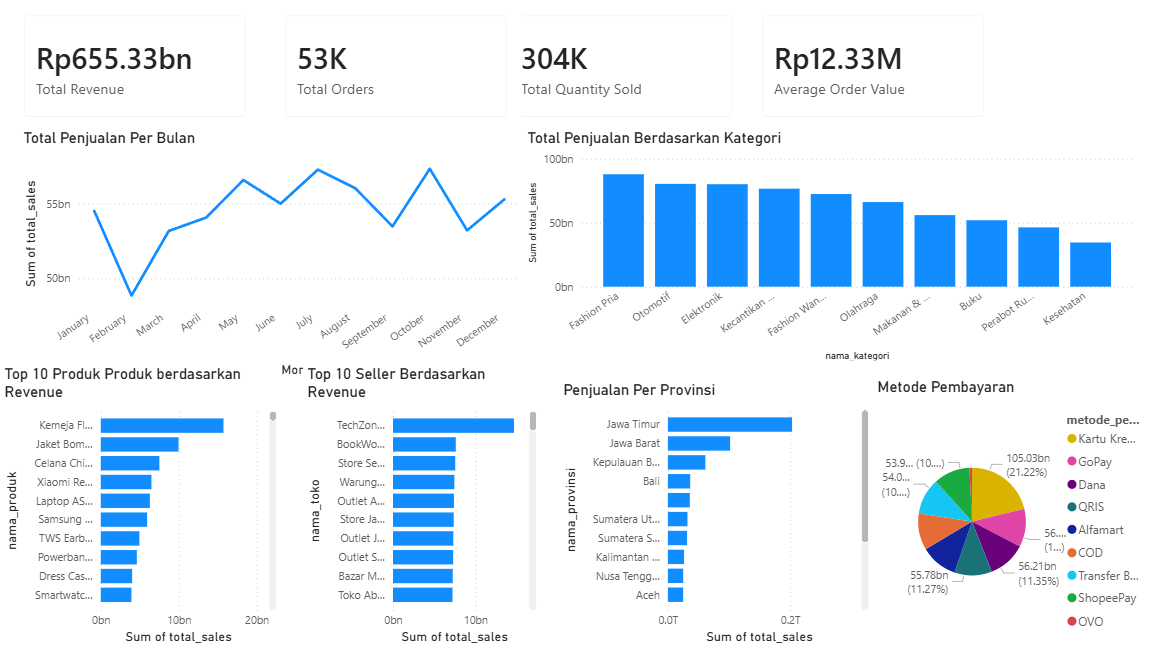

The dashboard page shown, as its layout file describes it:
{"tool":"powerbi","page":{"name":"Page 1","canvas":[1280,720],"ordinal":0},"visuals":[{"type":"cardVisual","fields":{"Data":["mart_sales_monthly_rows.Total Revenue"]},"box":[10,0,280,147.8],"z":0},{"type":"cardVisual","fields":{"Data":["mart_sales_monthly_rows.Total Quantity Sold"]},"box":[548.9,0,281.1,147.8],"z":1000},{"type":"cardVisual","fields":{"Data":["mart_sales_monthly_rows.Total Orders"]},"box":[300,0,280,147.8],"z":2000},{"type":"cardVisual","fields":{"Data":["mart_sales_monthly_rows.Average Order Value"]},"box":[830,0,280,147.8],"z":3000},{"type":"lineChart","title":"Total Penjualan Per Bulan","fields":{"Category":["mart_sales_monthly_rows.first_transaction_date.Variation.Date Hierarchy.Month","mart_sales_monthly_rows.first_transaction_date.Variation.Date Hierarchy.Day"],"Y":["Sum(mart_sales_monthly_rows.total_sales)"]},"box":[20.7,143.3,560.9,280.4],"z":4000},{"type":"columnChart","title":"Total Penjualan Berdasarkan Kategori","fields":{"Category":["mart_product_performance_rows.nama_kategori"],"Y":["Sum(mart_product_performance_rows.total_sales)"]},"box":[581.1,143.3,682.2,262.2],"z":5000},{"type":"clusteredBarChart","title":"Top 10 Produk Produk berdasarkan Revenue","fields":{"Category":["mart_product_performance_rows.nama_produk"],"Y":["Sum(mart_product_performance_rows.total_sales)"]},"box":[0,405.6,312.2,314.4],"z":6000},{"type":"clusteredBarChart","title":"Top 10 Seller Berdasarkan Revenue","fields":{"Category":["mart_seller_performance_rows.nama_toko"],"Y":["Sum(mart_seller_performance_rows.total_sales)"]},"box":[336.7,405.6,264.4,314.4],"z":7000},{"type":"pieChart","title":"Metode Pembayaran","fields":{"Category":["mart_payment_performance_rows.metode_pembayaran"],"Y":["Sum(mart_payment_performance_rows.total_sales)"]},"box":[970,420,310,300],"z":8000},{"type":"clusteredBarChart","title":"Penjualan Per Provinsi","fields":{"Category":["mart_region_performance_rows.nama_provinsi"],"Y":["Sum(mart_region_performance_rows.total_sales)"]},"box":[621.1,423.3,348.9,296.7],"z":9000}]}

Visuals, with their boxes in screenshot pixels (x1, y1, x2, y2), scaled from the page's 1280x720 canvas onto the 1149x645 screenshot:
cardVisual - mart_sales_monthly_rows.Total Revenue: 9 0 260 132
cardVisual - mart_sales_monthly_rows.Total Quantity Sold: 493 0 745 132
cardVisual - mart_sales_monthly_rows.Total Orders: 269 0 521 132
cardVisual - mart_sales_monthly_rows.Average Order Value: 745 0 996 132
"Total Penjualan Per Bulan" lineChart: 19 128 522 380
"Total Penjualan Berdasarkan Kategori" columnChart: 522 128 1134 363
"Top 10 Produk Produk berdasarkan Revenue" clusteredBarChart: 0 363 280 644
"Top 10 Seller Berdasarkan Revenue" clusteredBarChart: 302 363 540 644
"Metode Pembayaran" pieChart: 871 376 1148 644
"Penjualan Per Provinsi" clusteredBarChart: 558 379 871 644
